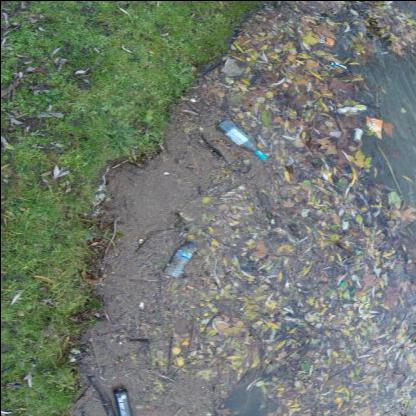Bottle cap: (214, 118, 266, 160), (164, 240, 193, 276)
Can: (113, 386, 134, 415)
Other plastic: (186, 284, 193, 288), (340, 282, 344, 286), (355, 248, 358, 250)
Plastic bag - wrapper: (365, 114, 382, 138), (314, 33, 334, 47), (328, 60, 348, 72)
Unlabeled litter: (336, 104, 366, 113), (352, 127, 363, 141), (328, 292, 332, 299)
